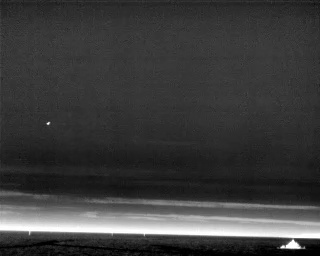BIRD: (44, 119, 52, 128)
